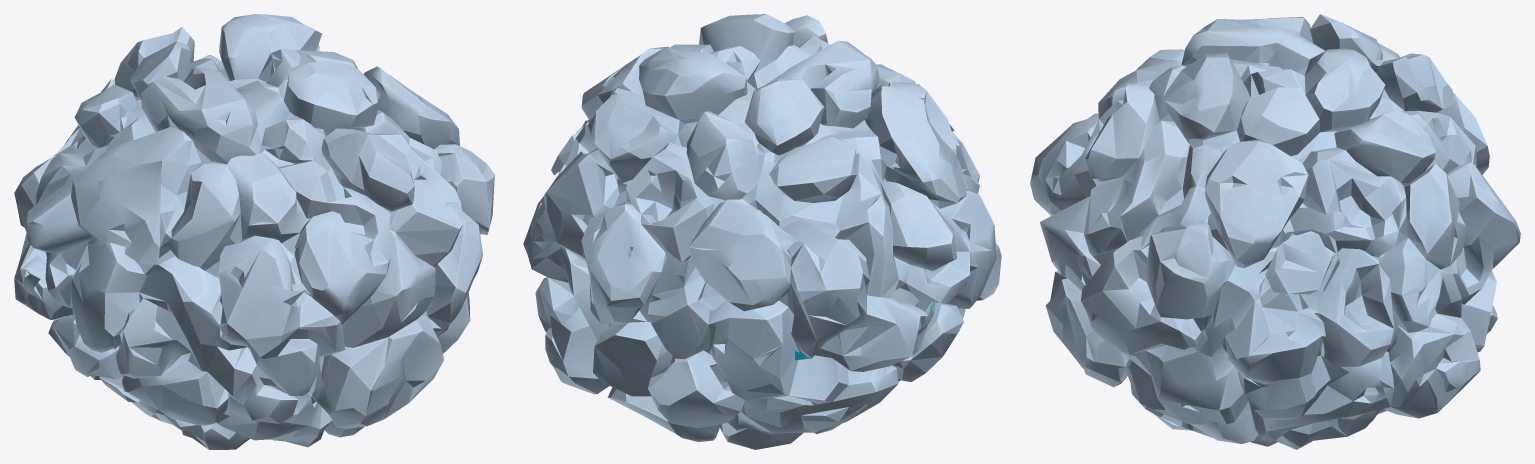
Rendered from moon-rock.glb.
The picture shows the model from 3 angles, left to right: view 1: azimuth 30°, elevation 25°; view 2: azimuth 150°, elevation 25°; view 3: azimuth 270°, elevation 25°; orthographic projection.
Bounding box in the file's own units: 1.88 × 1.58 × 1.89.
1 material, 1 textured.
